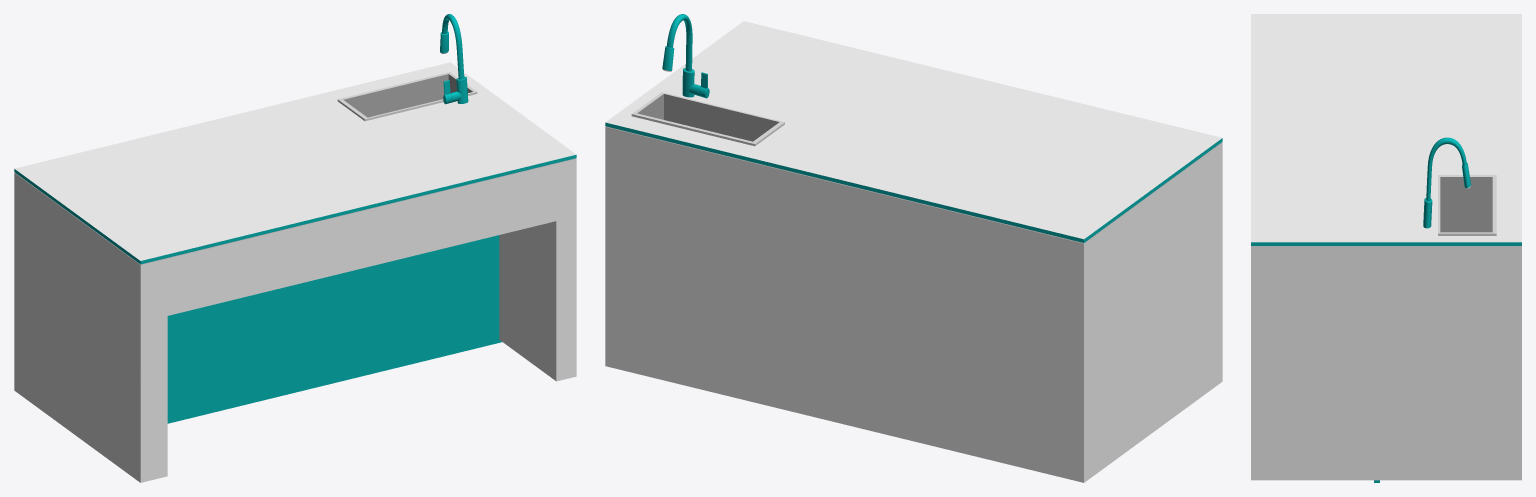
The model's file is table3VR_Nov18.glb.
The picture shows the model from 3 angles, left to right: view 1: azimuth 30°, elevation 25°; view 2: azimuth 150°, elevation 25°; view 3: azimuth 270°, elevation 25°; orthographic projection. The views are drawn at different scales.
Parts seen in each view (by area): view 1: table3; view 2: table3; view 3: table3.
Part boxes in pixels (x1,y1,x2,y2): table3: (14, 14, 576, 482); table3: (605, 14, 1222, 482); table3: (1251, 14, 1521, 482).
Bounding box in the file's own units: 1.52 × 1.02 × 0.762.
